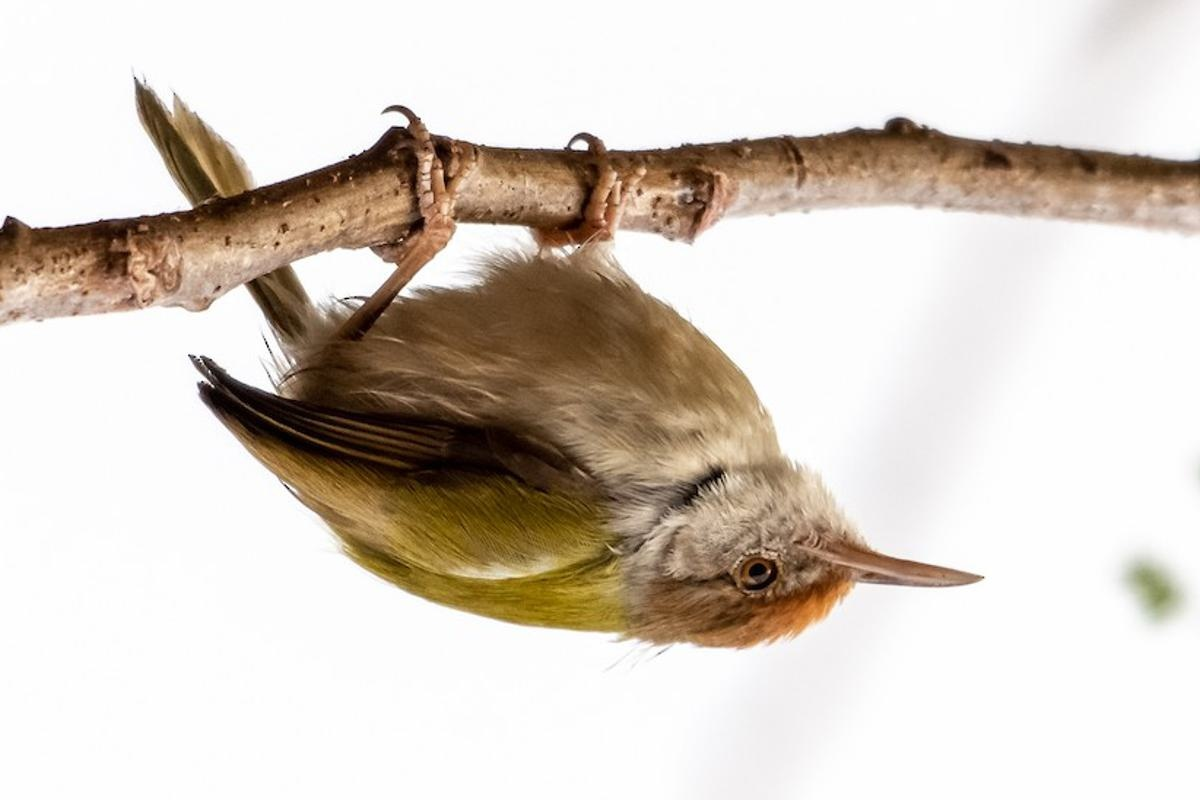tailorbird: (129, 95, 1010, 673)
